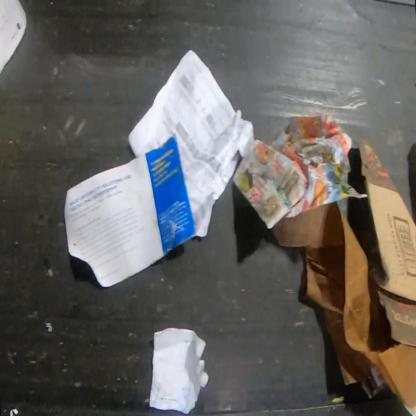cardboard: (272, 199, 415, 412), (357, 140, 415, 351)
